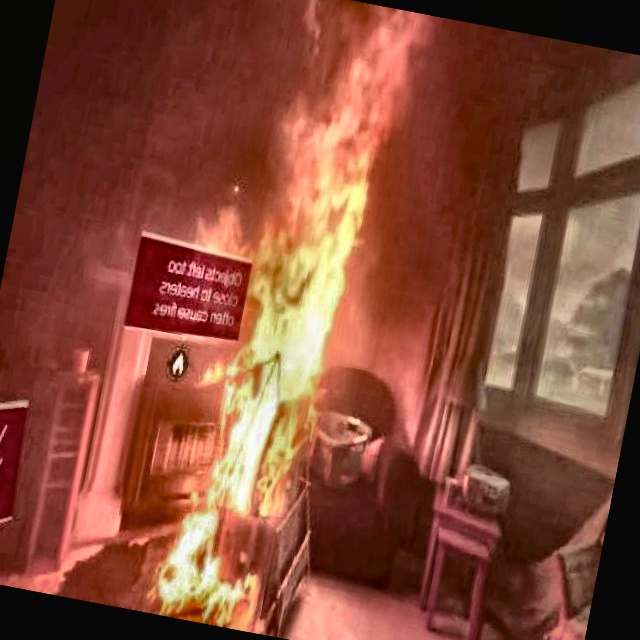fire: (193, 0, 440, 467)
